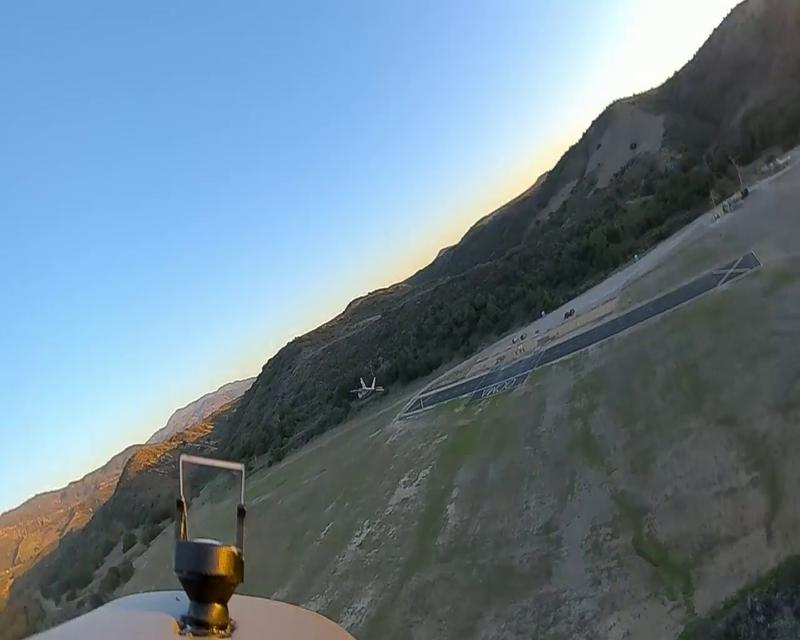UAV: (350, 377, 384, 401)
